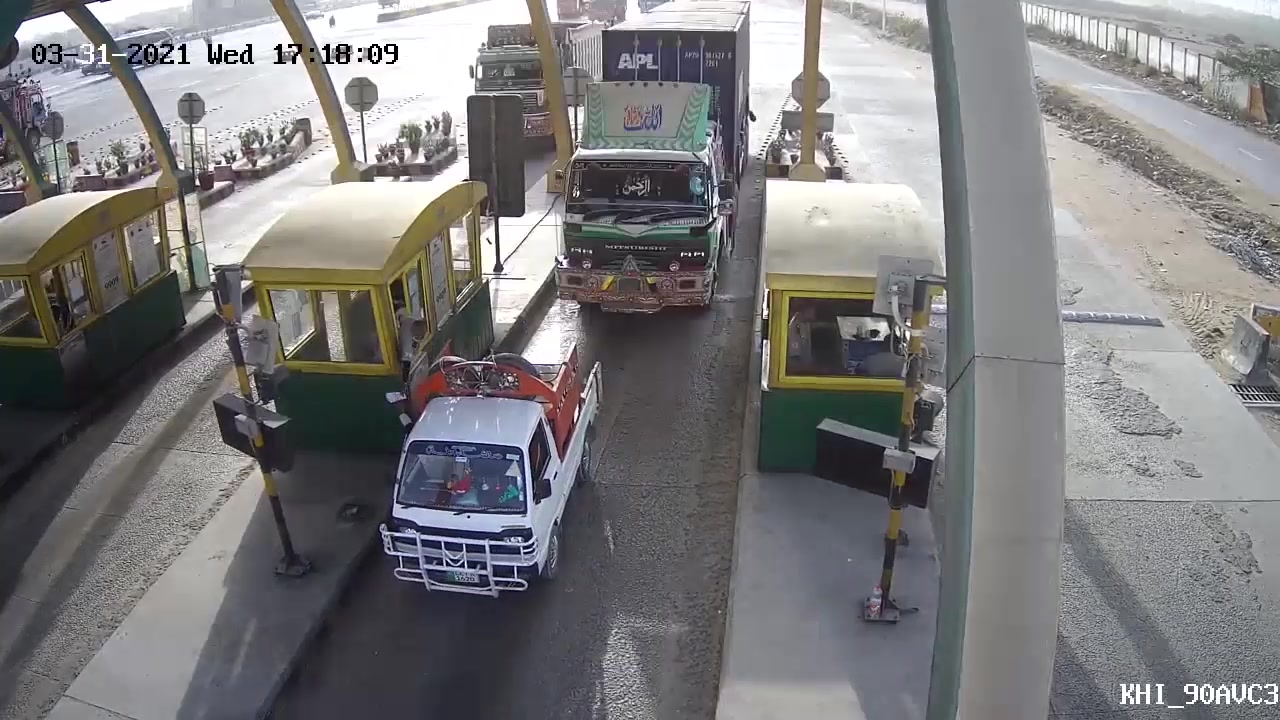F1: (379, 343, 608, 613)
F6: (557, 5, 754, 321)
